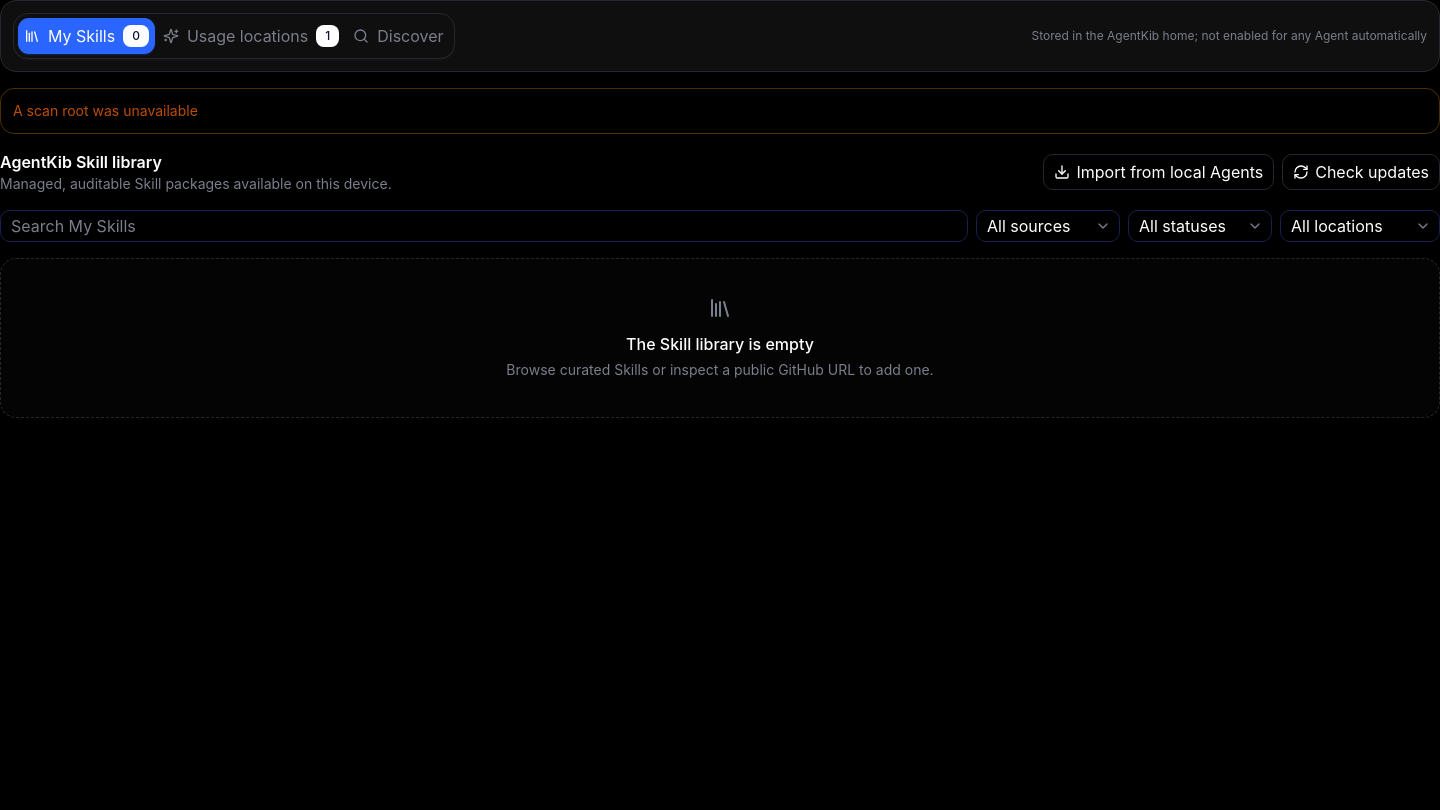
SkillHubPage › copies an external package through review and preserves successful import warnings
This screenshot has width=1440, height=810.
Expected: the text "A scan root was unavailable" is shown, [0,88,1439,134]
Click the tab "Usage locations 1" at (251, 36), box [157,18,345,54]
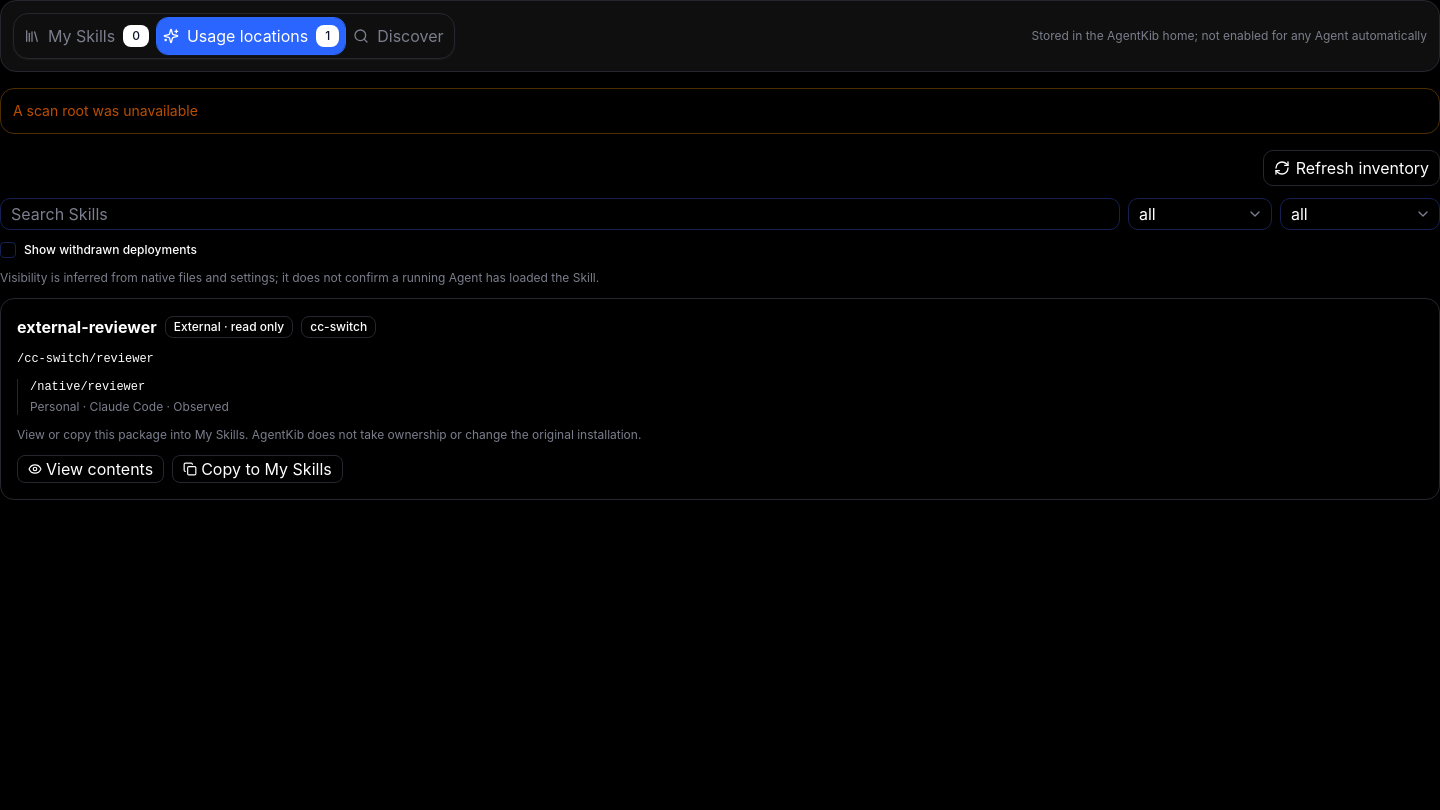
Click the button "Copy to My Skills" at (257, 469), box [172,455,343,483]
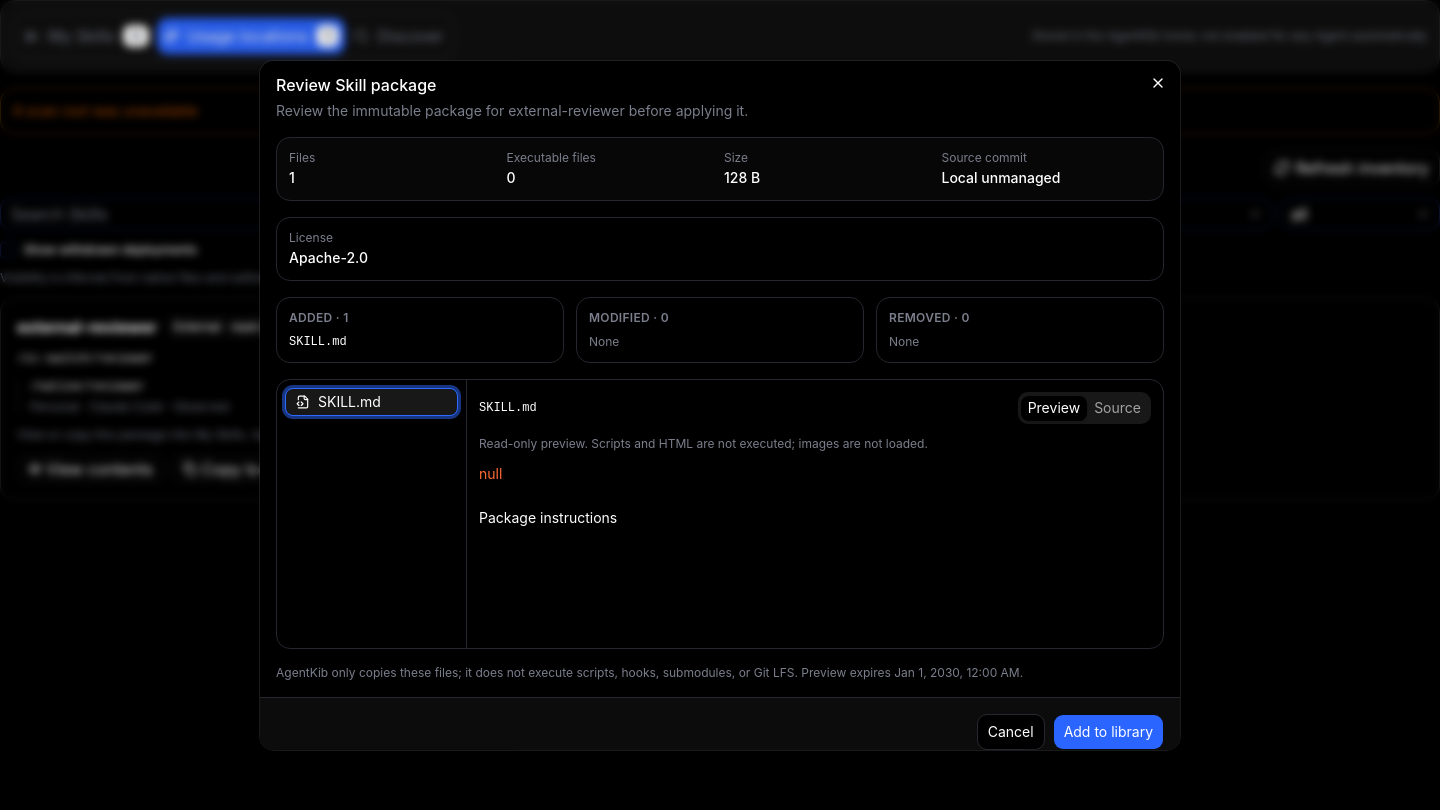
Result: the heading "Review Skill package" is shown at [276,75,436,95]
Click the button "Add to library" at (1108, 732), box [1053,714,1164,750]
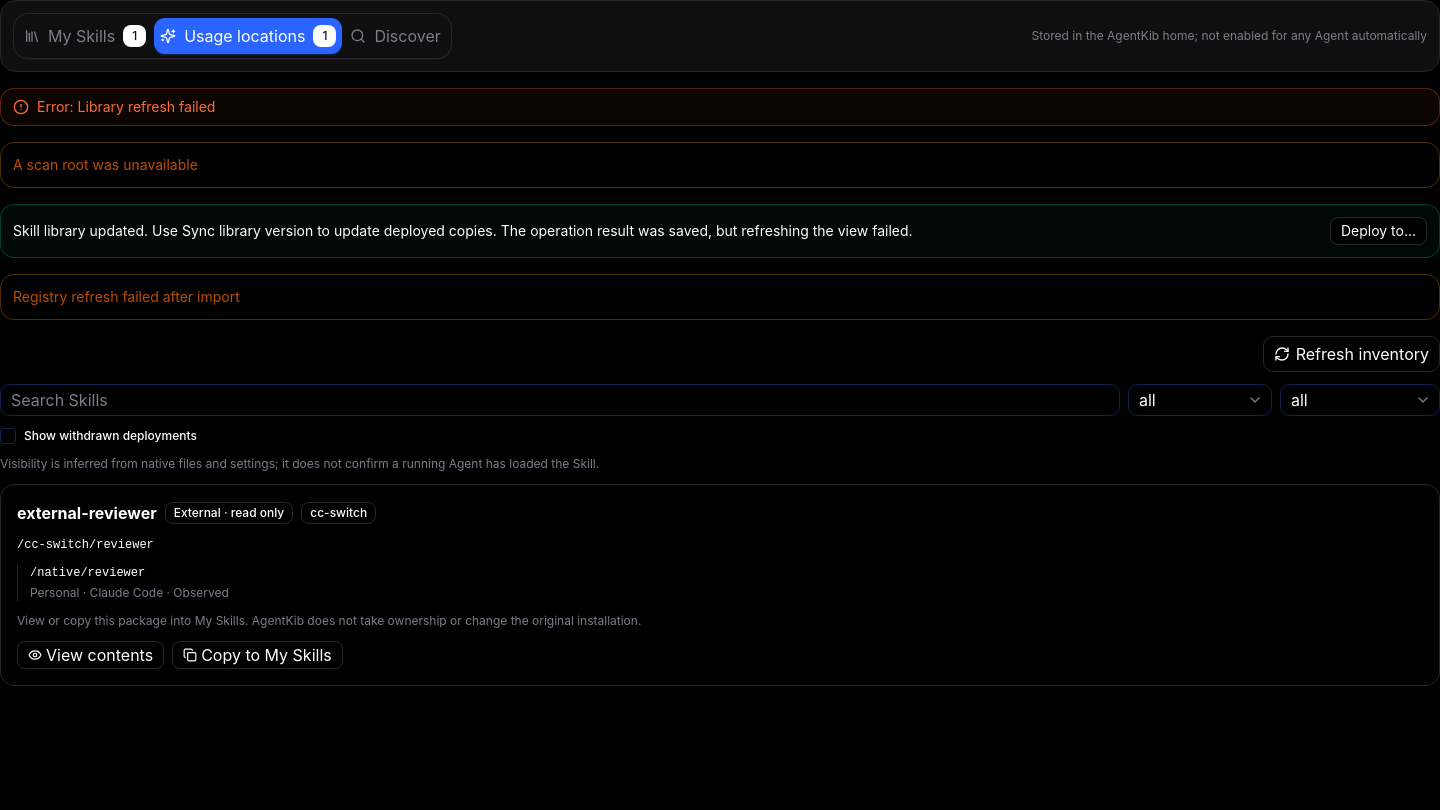
Result: the text "Registry refresh failed after import" is shown at [0,274,1439,320]
Result: the text "Skill library updated" is shown at [13,222,497,239]
Click the button "Deploy to…" at (1378, 231), box [1330,217,1427,245]
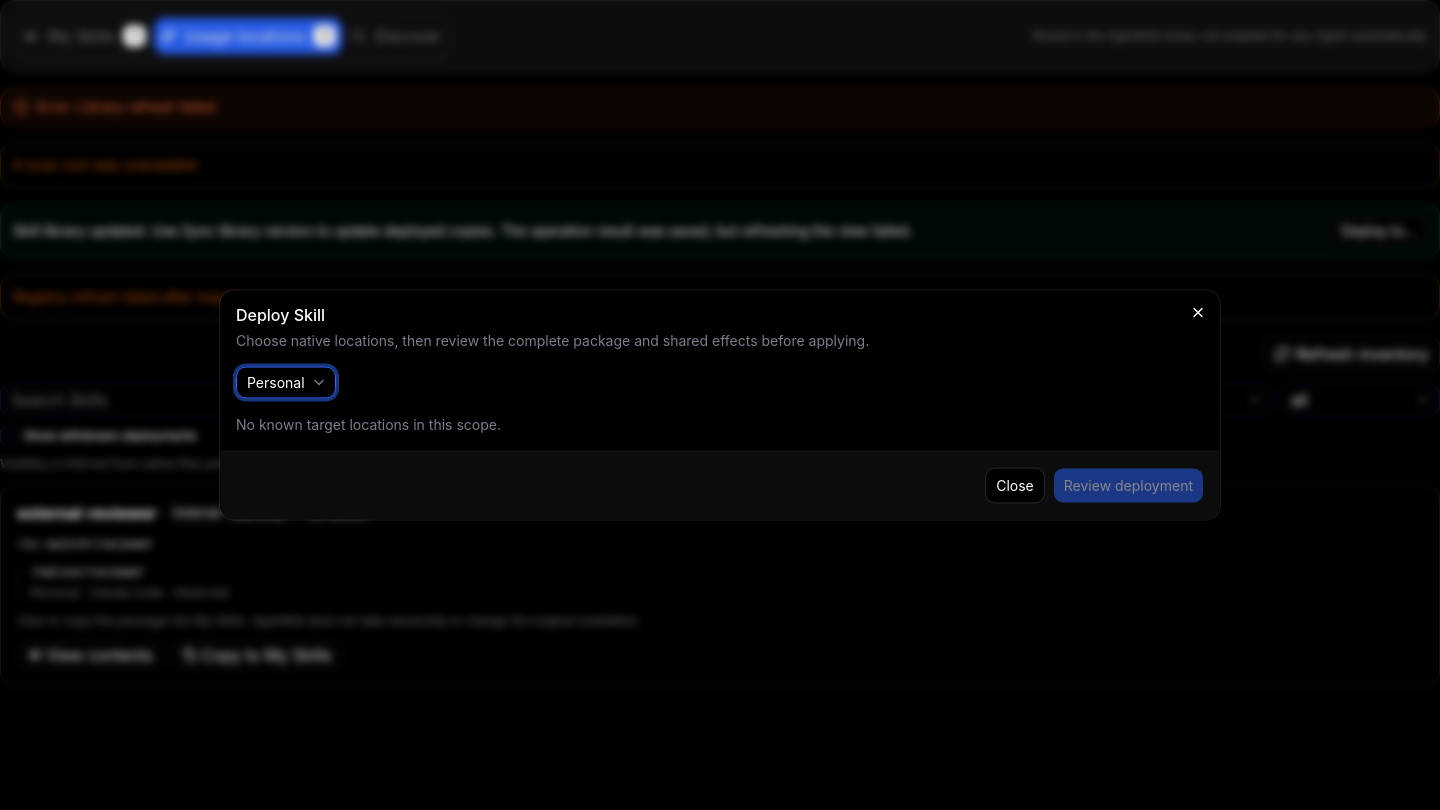
Result: the dialog "Deploy Skill" is shown at [220,290,1220,520]
